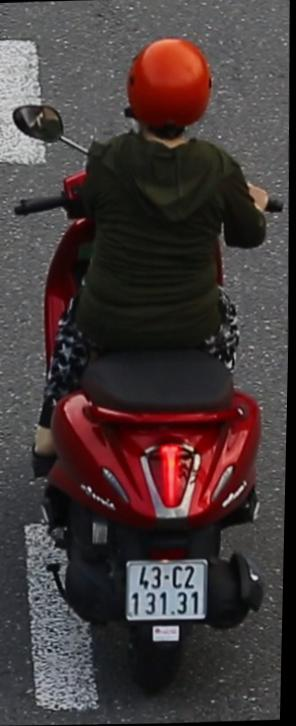LP: (124, 553, 215, 632)
helmet: (117, 30, 220, 162)
